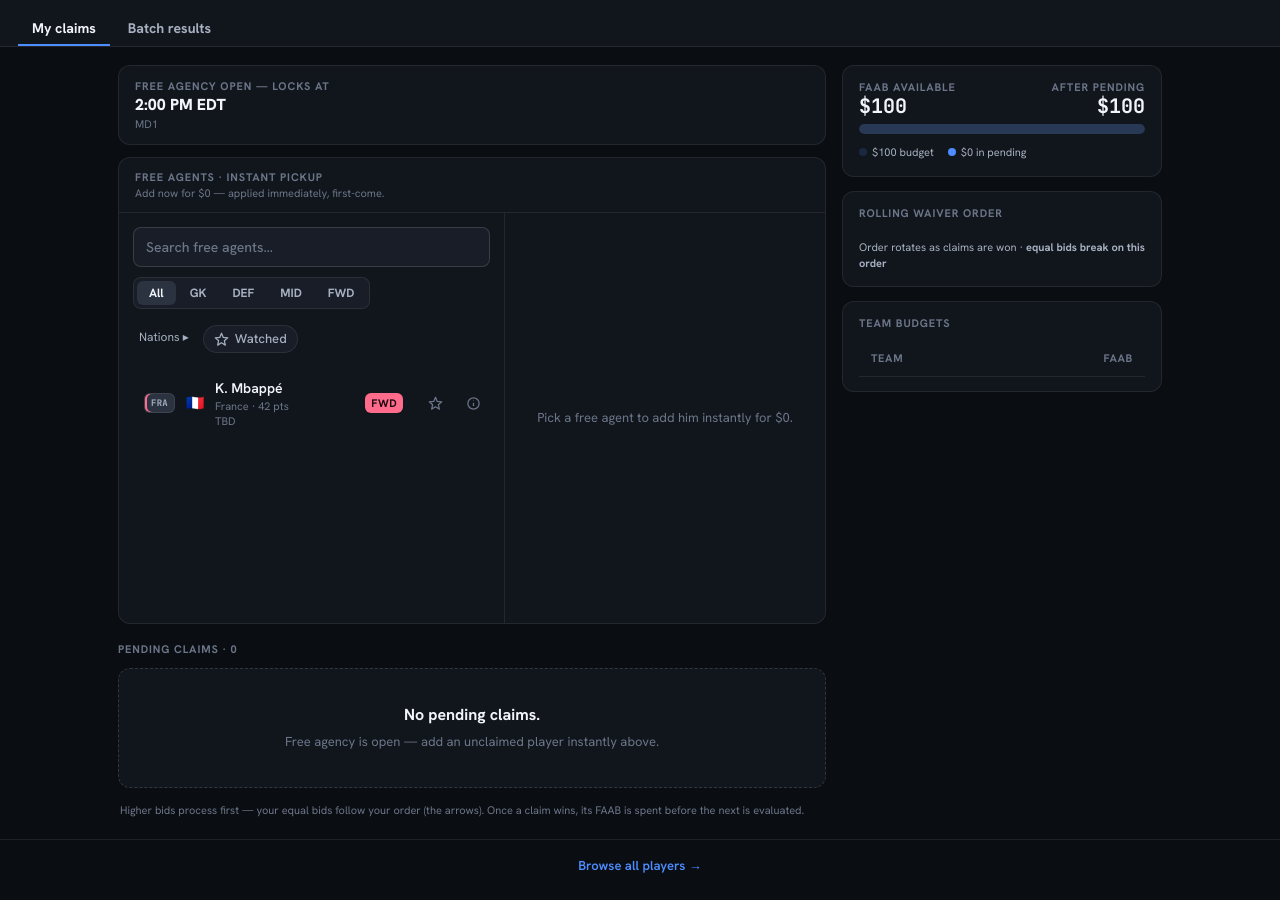
Scenario: Free Agents / Waivers player card (open-vs-add resolution) › switching the open card to Stats renders the shared body (eager fetch, position tiles)
This screenshot has width=1280, height=900.
Click the button named "view player card".
click(473, 403)  # box top-left (456, 369), bottom-right (490, 437)
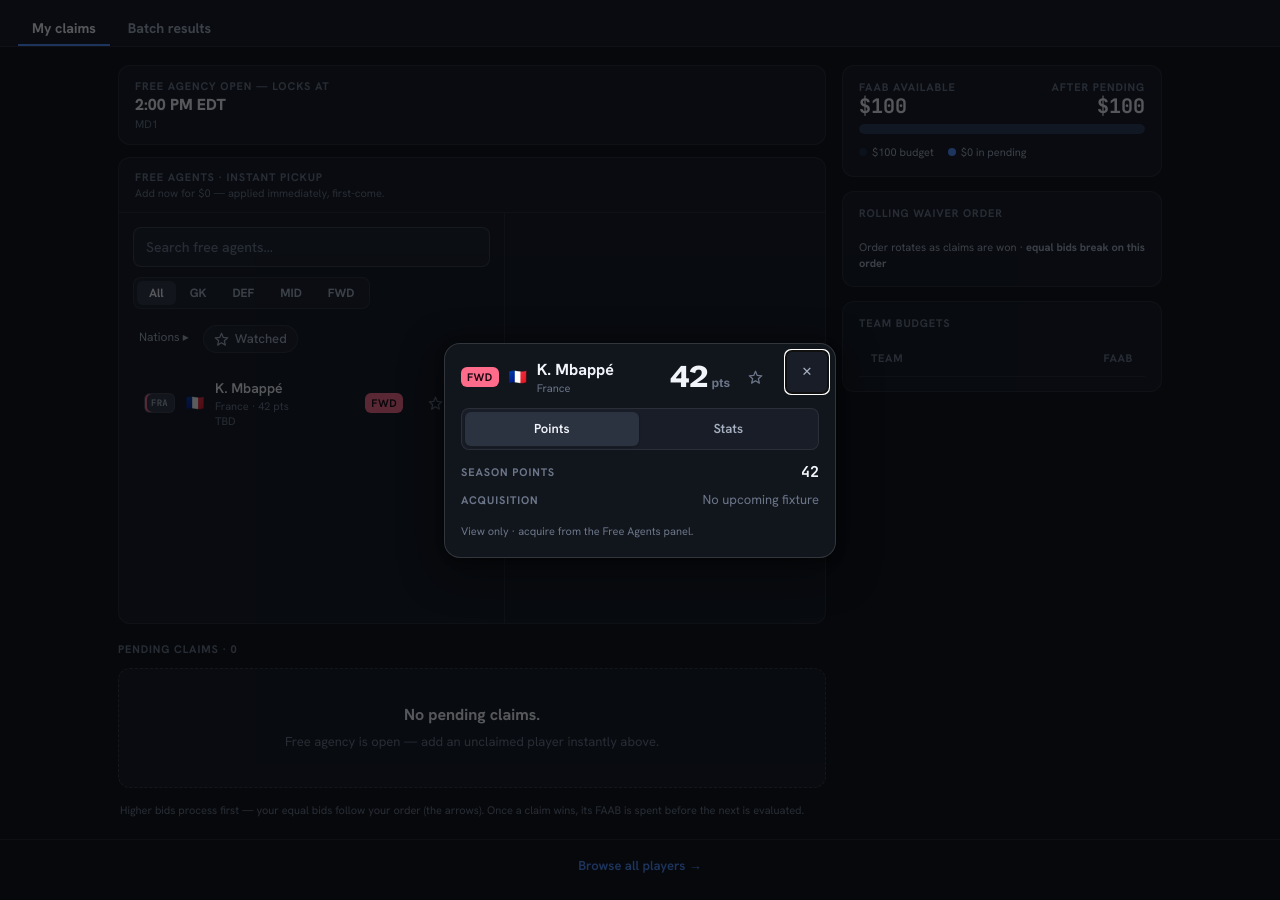
Click the tab "Stats".
click(728, 428)  # box top-left (642, 412), bottom-right (815, 446)
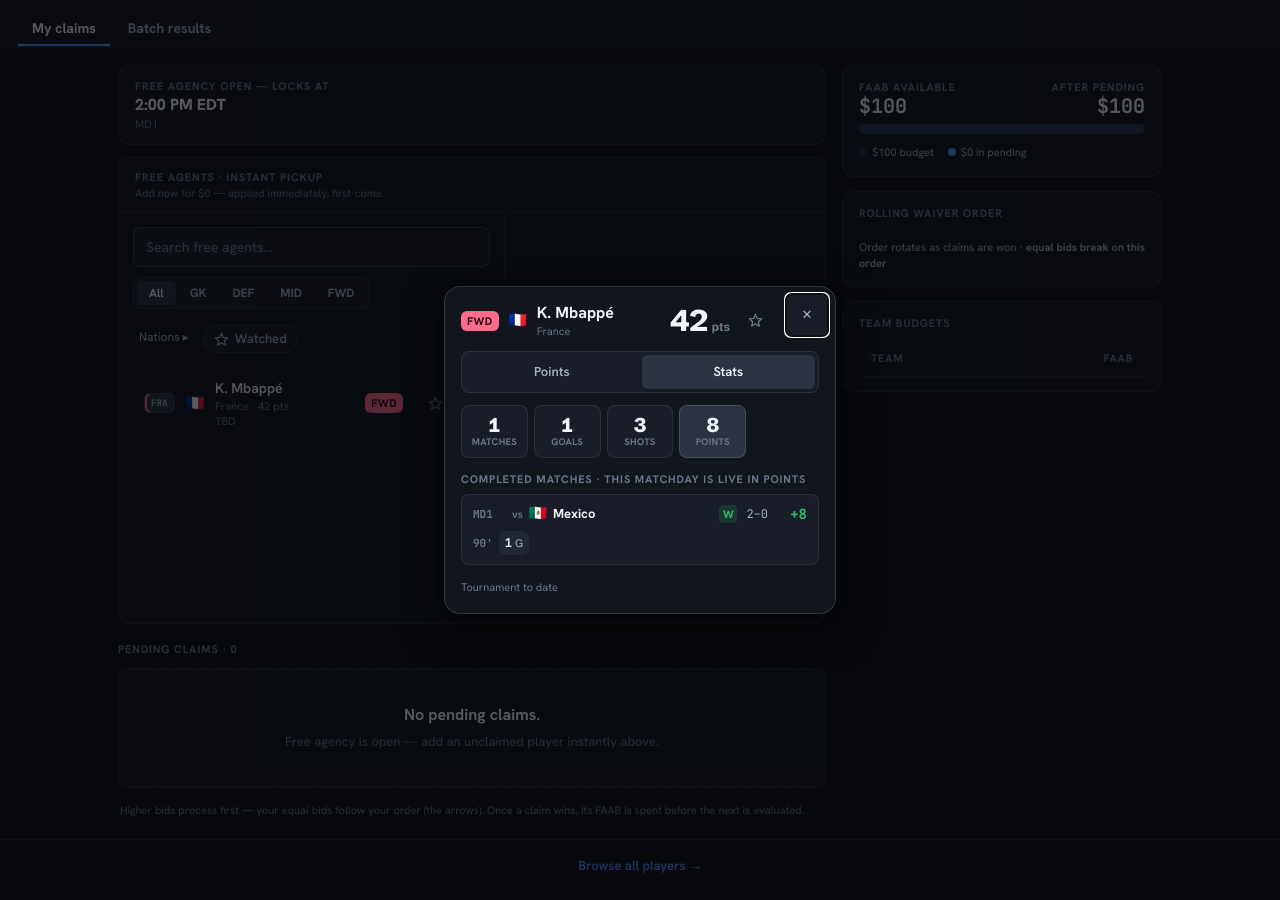
Now the text "Mexico" is shown, box top-left (553, 504), bottom-right (595, 524)
Now the text "Shots" is shown, box top-left (624, 437), bottom-right (656, 448)
Now the text "2–0" is shown, box top-left (746, 504), bottom-right (768, 524)
